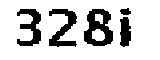2: (47, 7, 80, 49)
3: (9, 5, 43, 47)
8: (80, 6, 115, 51)
i: (116, 4, 134, 49)
